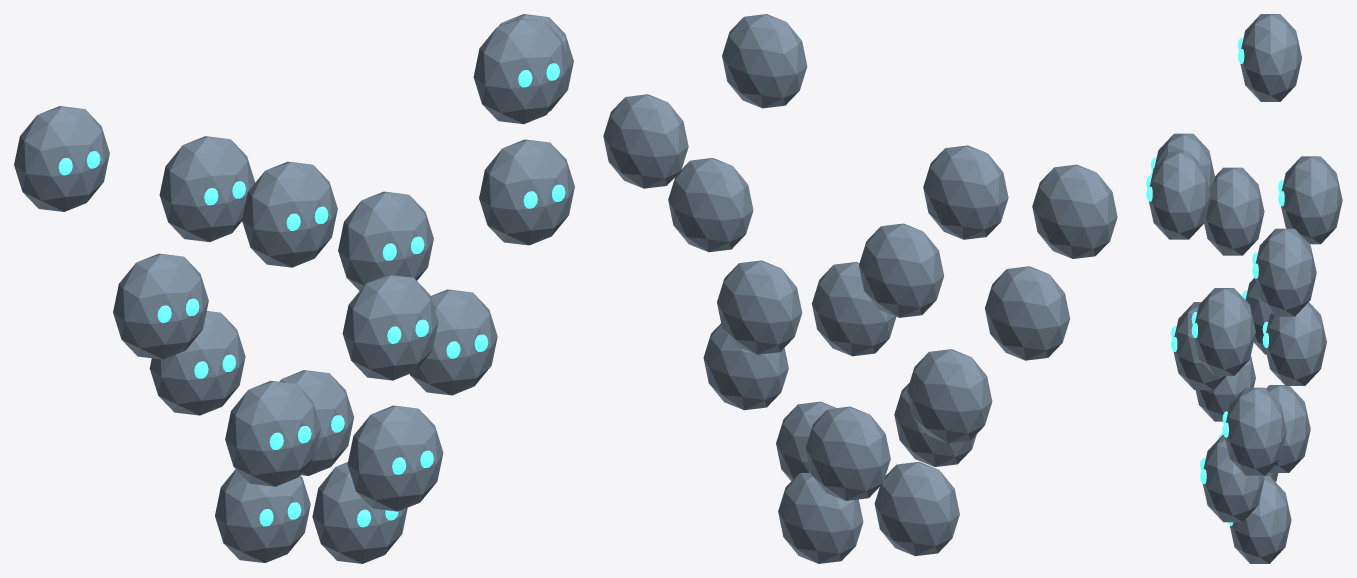
Rendered from swarm_v5.glb.
The picture shows the model from 3 angles, left to right: view 1: azimuth 30°, elevation 25°; view 2: azimuth 150°, elevation 25°; view 3: azimuth 270°, elevation 25°; orthographic projection. The views are drawn at different scales.
Parts seen in each view (by area): view 1: SKULL_SWARM_PRIMARY.002, SKULL_SWARM_PRIMARY.015, SKULL_SWARM_PRIMARY.007, SKULL_SWARM_PRIMARY.012, SKULL_SWARM_PRIMARY.014, SKULL_SWARM_PRIMARY.004, SKULL_SWARM_PRIMARY.009, SKULL_SWARM_PRIMARY.010, SKULL_SWARM_PRIMARY.011, SKULL_SWARM_PRIMARY.008, SKULL_SWARM_PRIMARY.001, SKULL_SWARM_PRIMARY.006 (+4 smaller); view 2: SKULL_SWARM_PRIMARY.015, SKULL_SWARM_PRIMARY.006, SKULL_SWARM_PRIMARY.008, SKULL_SWARM_PRIMARY.009, SKULL_SWARM_PRIMARY.014, SKULL_SWARM_PRIMARY.003, SKULL_SWARM_PRIMARY.011, SKULL_SWARM_PRIMARY.010, SKULL_SWARM_PRIMARY.012, SKULL_SWARM_PRIMARY.013, SKULL_SWARM_PRIMARY.001, SKULL_SWARM_PRIMARY (+4 smaller); view 3: SKULL_SWARM_PRIMARY.013, SKULL_SWARM_PRIMARY.015, SKULL_SWARM_PRIMARY.005, SKULL_SWARM_PRIMARY.014, SKULL_SWARM_PRIMARY.010, SKULL_SWARM_PRIMARY.011, SKULL_SWARM_PRIMARY.009, SKULL_SWARM_PRIMARY.008, SKULL_SWARM_PRIMARY, SKULL_SWARM_PRIMARY.002, SKULL_SWARM_PRIMARY.003, SKULL_SWARM_PRIMARY.007 (+3 smaller).
Boxes of the visible parts, <box> form: SKULL_SWARM_PRIMARY.002: <box>347,405,443,511</box>; SKULL_SWARM_PRIMARY.015: <box>473,18,569,124</box>; SKULL_SWARM_PRIMARY.007: <box>342,274,438,380</box>; SKULL_SWARM_PRIMARY.012: <box>242,161,337,267</box>; SKULL_SWARM_PRIMARY.014: <box>14,106,109,211</box>; SKULL_SWARM_PRIMARY.004: <box>225,380,320,486</box>; SKULL_SWARM_PRIMARY.009: <box>113,253,208,359</box>; SKULL_SWARM_PRIMARY.010: <box>479,139,574,245</box>; SKULL_SWARM_PRIMARY.011: <box>159,136,255,241</box>; SKULL_SWARM_PRIMARY.008: <box>338,191,433,290</box>; SKULL_SWARM_PRIMARY.001: <box>215,469,310,562</box>; SKULL_SWARM_PRIMARY.006: <box>149,311,245,415</box>; SKULL_SWARM_PRIMARY.015: <box>722,14,807,108</box>; SKULL_SWARM_PRIMARY.006: <box>907,349,992,443</box>; SKULL_SWARM_PRIMARY.008: <box>717,260,802,354</box>; SKULL_SWARM_PRIMARY.009: <box>985,266,1070,360</box>; SKULL_SWARM_PRIMARY.014: <box>1032,164,1117,258</box>; SKULL_SWARM_PRIMARY.003: <box>805,406,890,500</box>; SKULL_SWARM_PRIMARY.011: <box>859,223,943,317</box>; SKULL_SWARM_PRIMARY.010: <box>668,158,753,252</box>; SKULL_SWARM_PRIMARY.012: <box>923,145,1008,239</box>; SKULL_SWARM_PRIMARY.013: <box>603,94,688,188</box>; SKULL_SWARM_PRIMARY.001: <box>874,461,959,556</box>; SKULL_SWARM_PRIMARY: <box>778,472,863,563</box>; SKULL_SWARM_PRIMARY.013: <box>1255,228,1316,316</box>; SKULL_SWARM_PRIMARY.015: <box>1149,151,1210,239</box>; SKULL_SWARM_PRIMARY.005: <box>1225,387,1286,475</box>; SKULL_SWARM_PRIMARY.014: <box>1240,14,1301,101</box>; SKULL_SWARM_PRIMARY.010: <box>1194,288,1255,375</box>; SKULL_SWARM_PRIMARY.011: <box>1281,156,1342,244</box>; SKULL_SWARM_PRIMARY.009: <box>1204,167,1264,255</box>; SKULL_SWARM_PRIMARY.008: <box>1265,302,1326,385</box>; SKULL_SWARM_PRIMARY: <box>1230,476,1291,563</box>; SKULL_SWARM_PRIMARY.002: <box>1203,434,1264,522</box>; SKULL_SWARM_PRIMARY.003: <box>1266,385,1310,472</box>; SKULL_SWARM_PRIMARY.007: <box>1173,302,1226,389</box>.
Bounding box in the file's own units: 2.02 × 1.91 × 0.7473.
